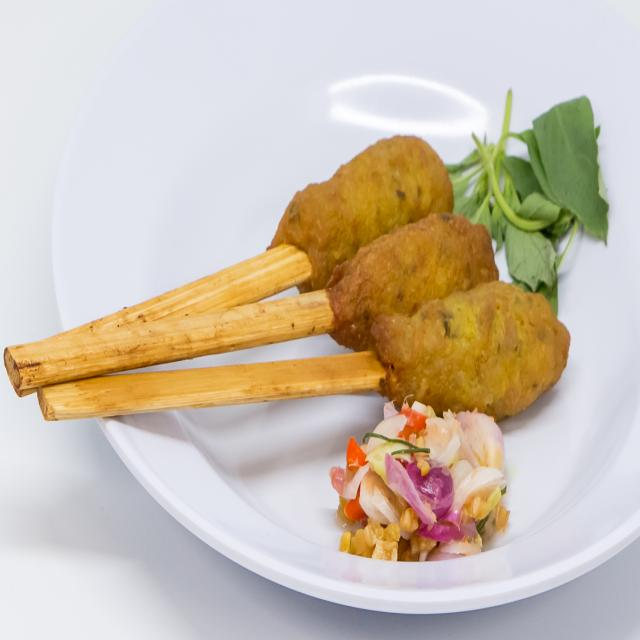Sate-Lilit: (172, 75, 622, 571)
